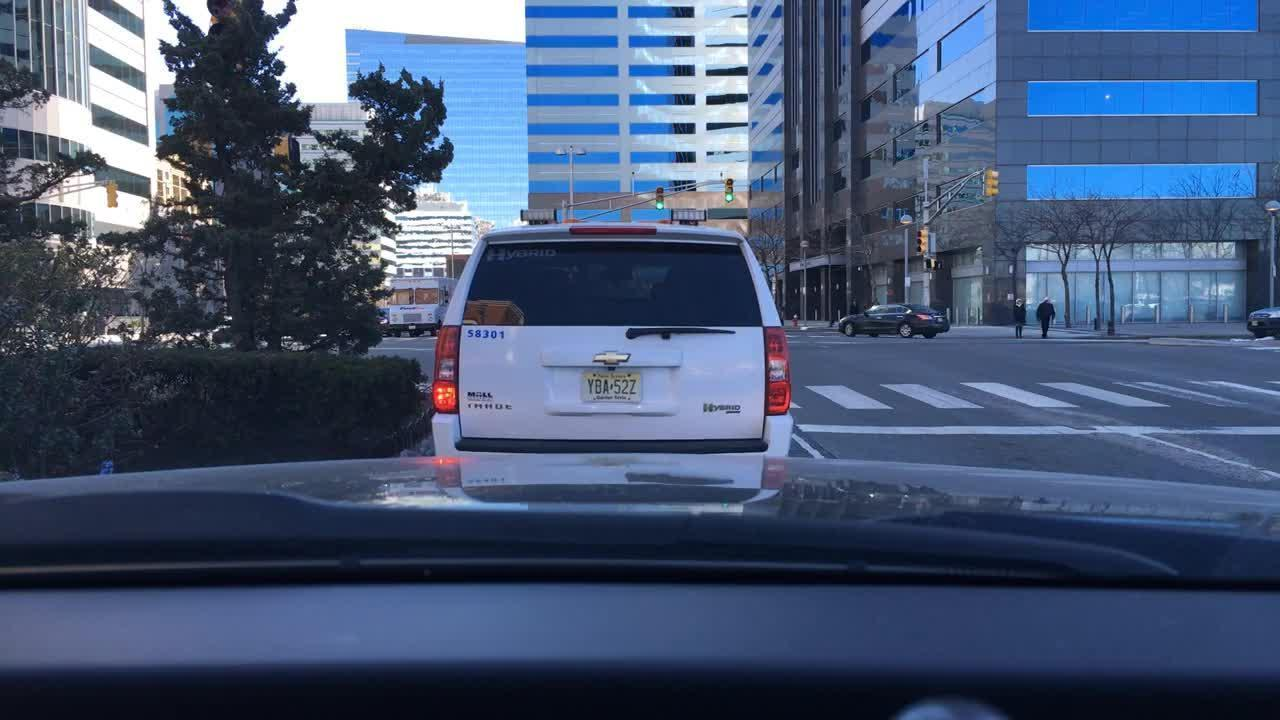chevrolet: (588, 342, 633, 370)
